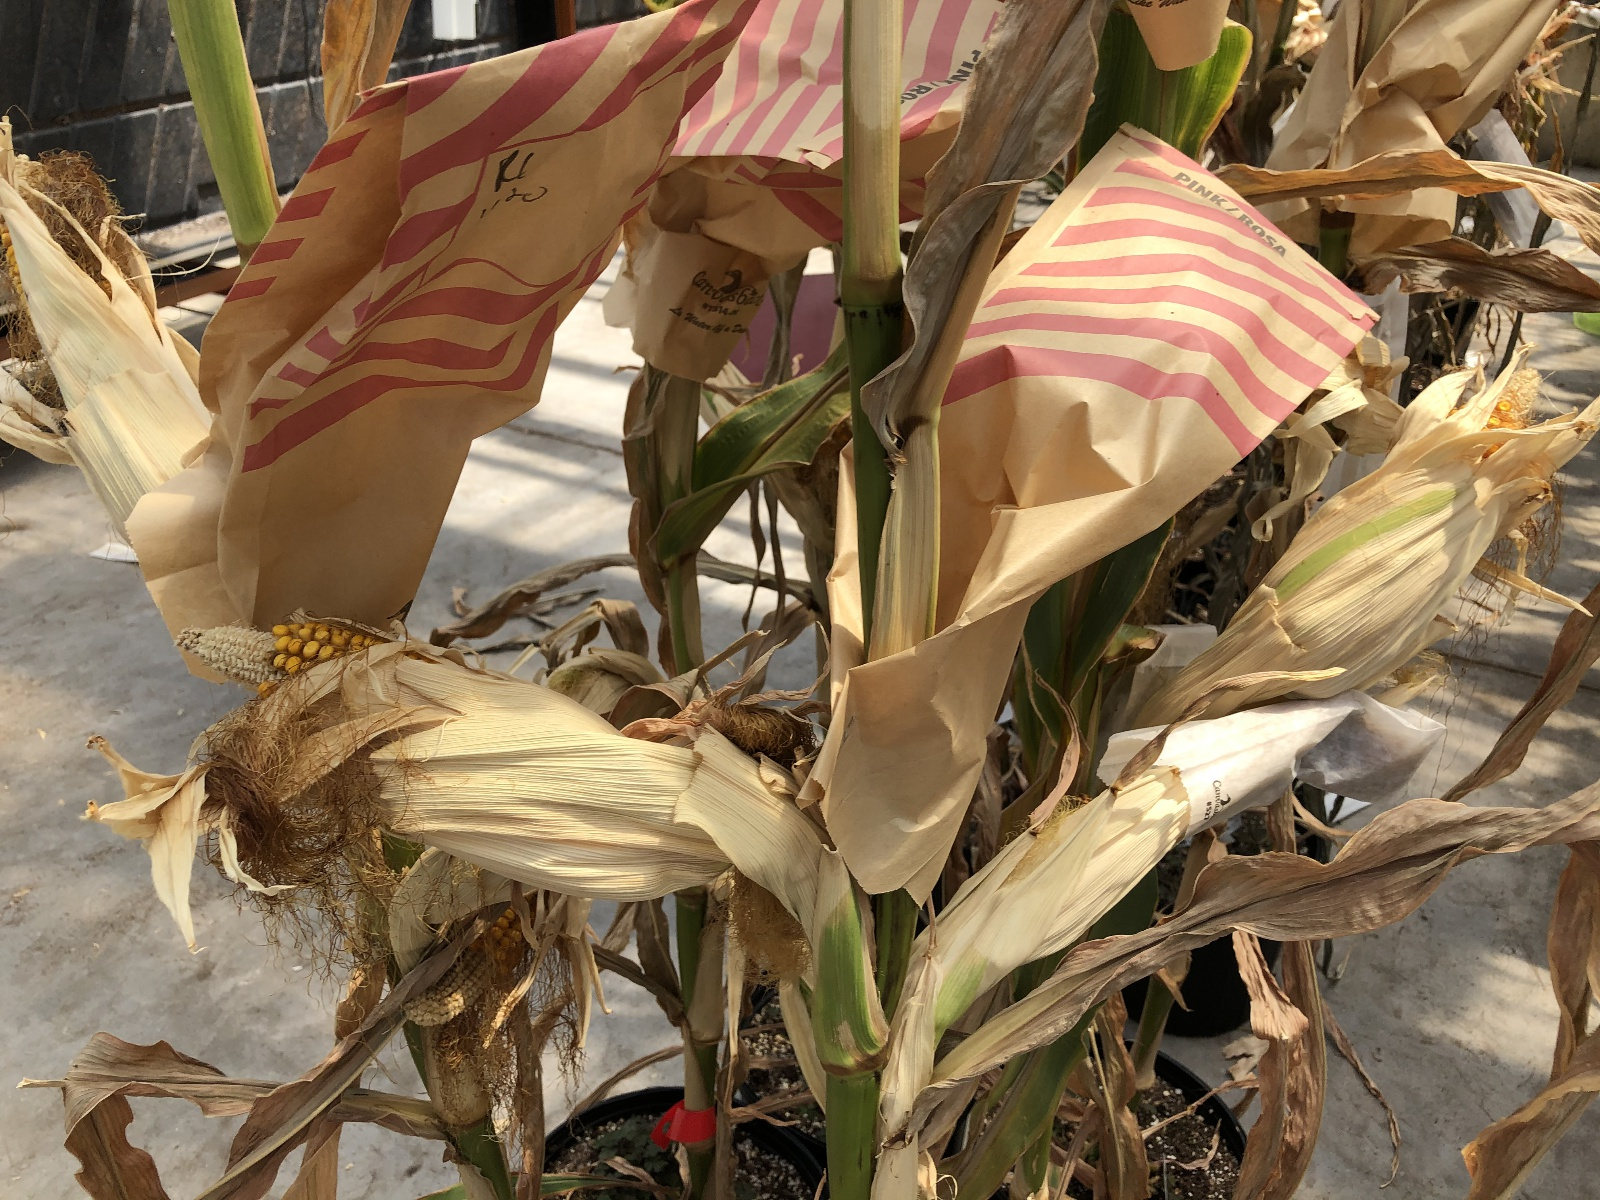ear: (163, 596, 771, 892), (1225, 350, 1551, 695), (5, 125, 234, 560), (406, 899, 569, 1030)
